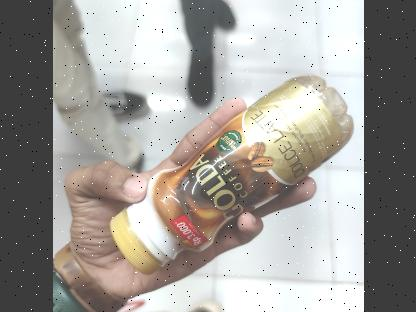Plastic Bottle: (107, 75, 354, 276)
